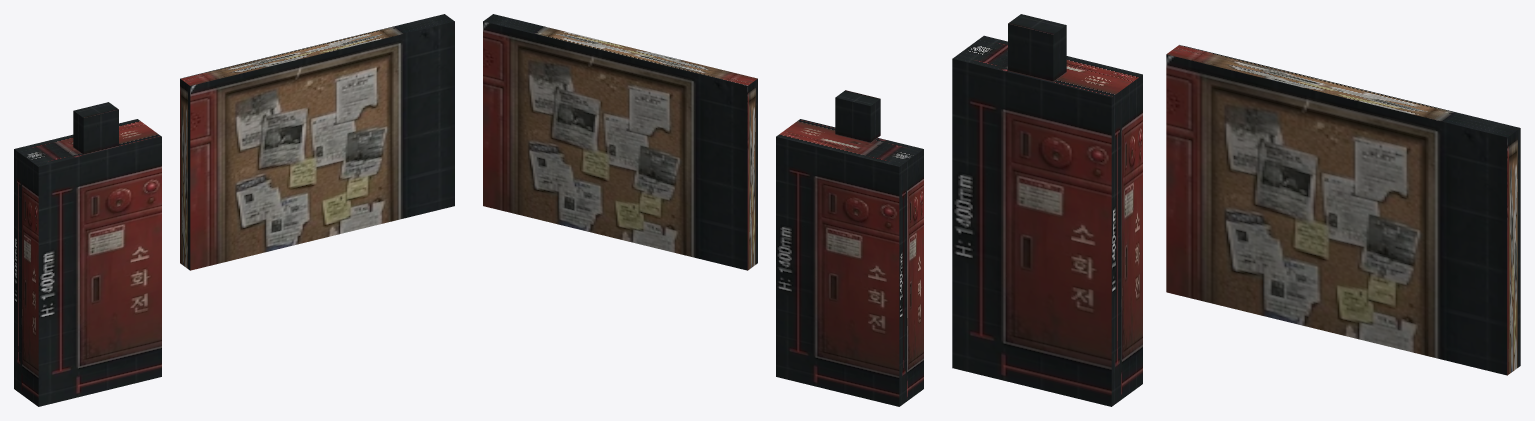
File: sf_horror_fire_bulletin.glb
3 renders of one model, left to right at view 1: azimuth 30°, elevation 25°; view 2: azimuth 150°, elevation 25°; view 3: azimuth 330°, elevation 25°, orthographic. The views are drawn at different scales.
Visible parts, largest first — view 1: FireHydrantAndBulletinBoard_Root, FireHydrantAndBulletinBoard_AnimPart; view 2: FireHydrantAndBulletinBoard_Root, FireHydrantAndBulletinBoard_AnimPart; view 3: FireHydrantAndBulletinBoard_Root, FireHydrantAndBulletinBoard_AnimPart.
Part boxes in pixels (left/top/right/bottom): FireHydrantAndBulletinBoard_Root: left=14, top=14, right=454, bottom=406; FireHydrantAndBulletinBoard_AnimPart: left=73, top=102, right=118, bottom=154; FireHydrantAndBulletinBoard_Root: left=483, top=14, right=923, bottom=406; FireHydrantAndBulletinBoard_AnimPart: left=835, top=90, right=880, bottom=142; FireHydrantAndBulletinBoard_Root: left=952, top=35, right=1520, bottom=406; FireHydrantAndBulletinBoard_AnimPart: left=1008, top=14, right=1066, bottom=82.
Size of the model in its own units: 2.4 by 1.51 by 0.25.
Materials: 1 (1 with a texture image).
